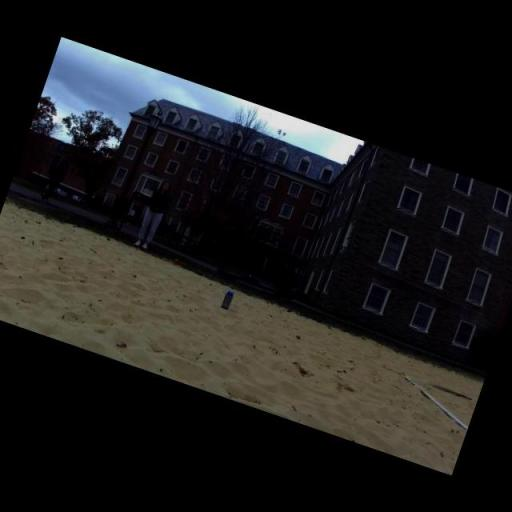bottle: (220, 289, 234, 310)
